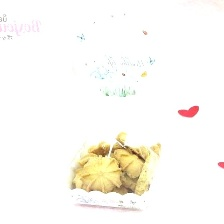snack: (54, 0, 172, 215)
